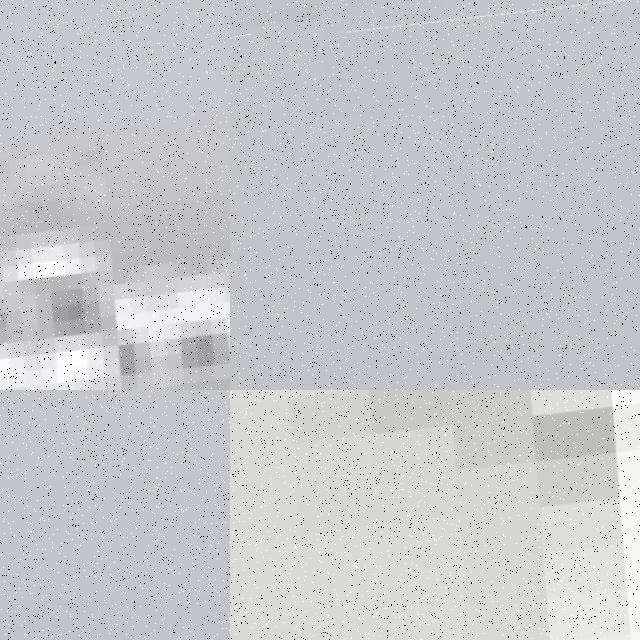drone: (230, 390, 640, 640), (0, 0, 230, 390)
